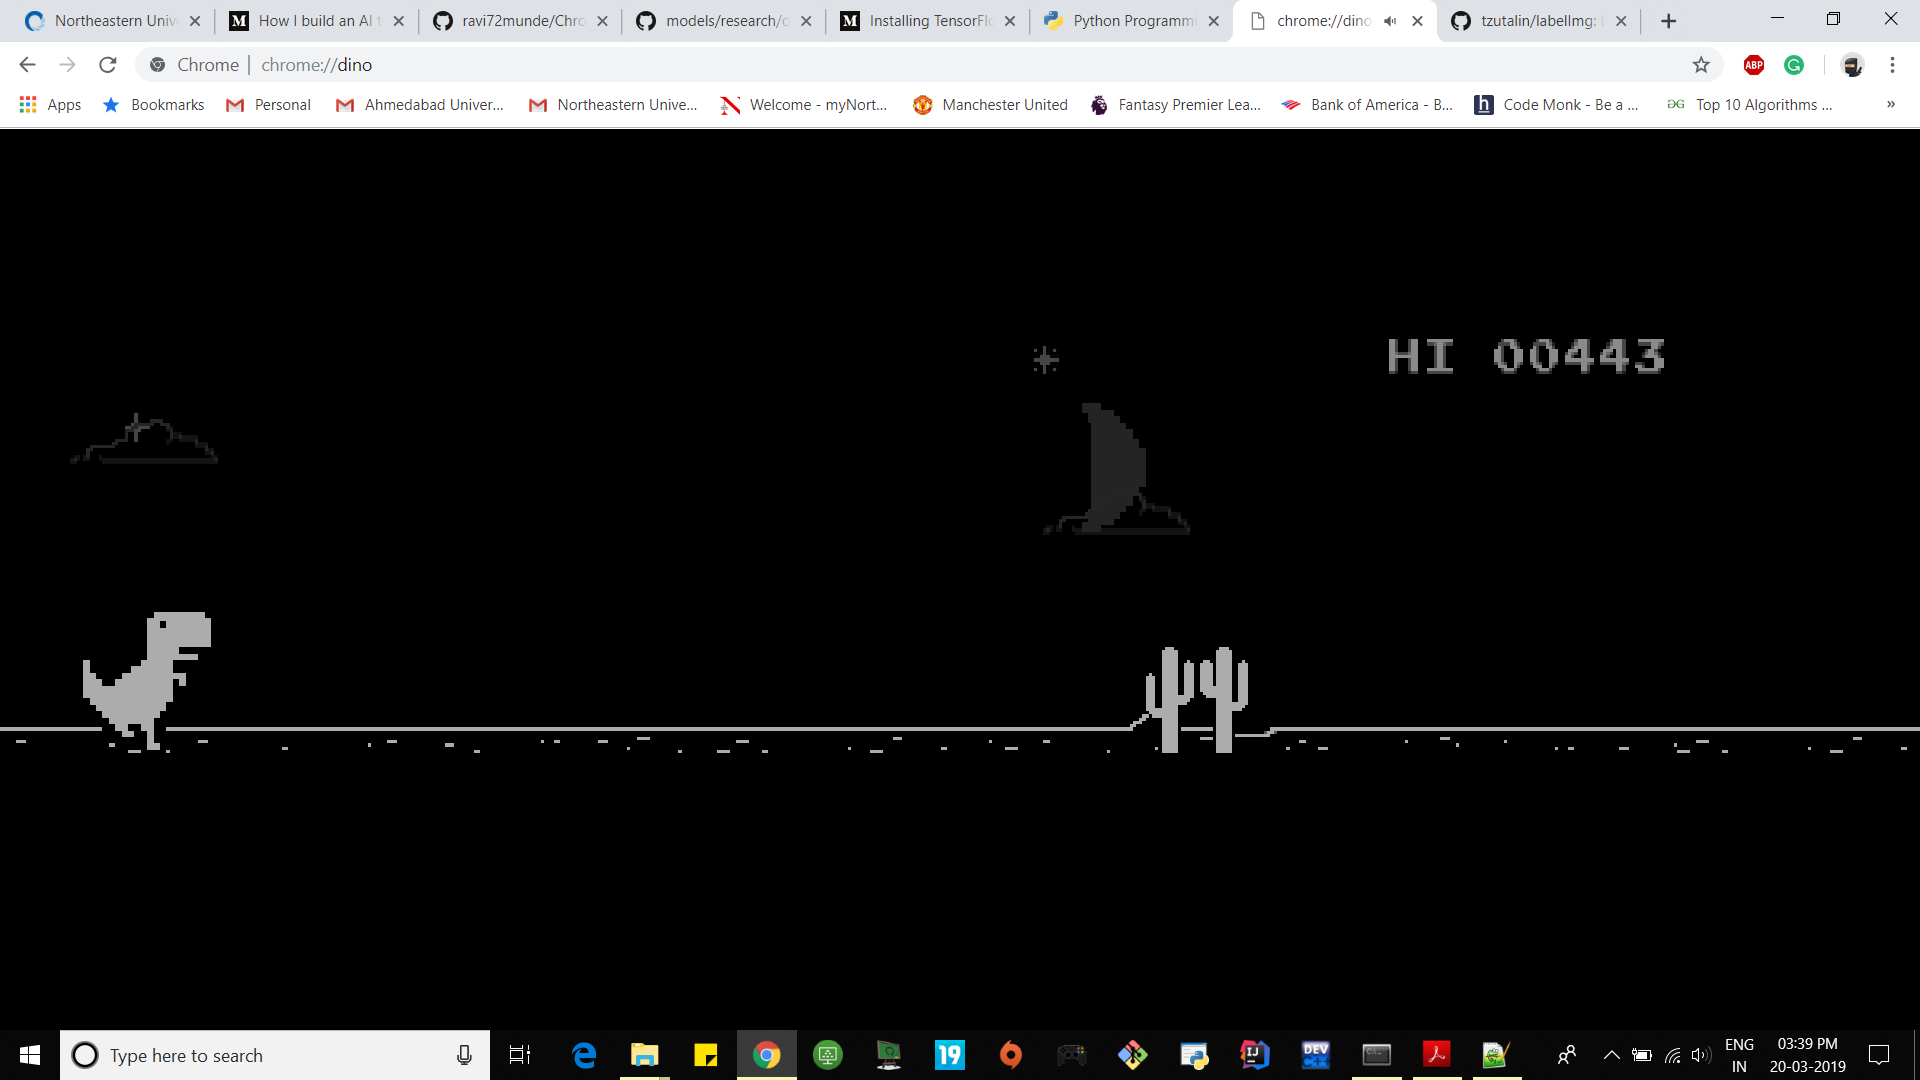cactus-2: (1141, 647, 1249, 756)
dino: (78, 612, 214, 750)
